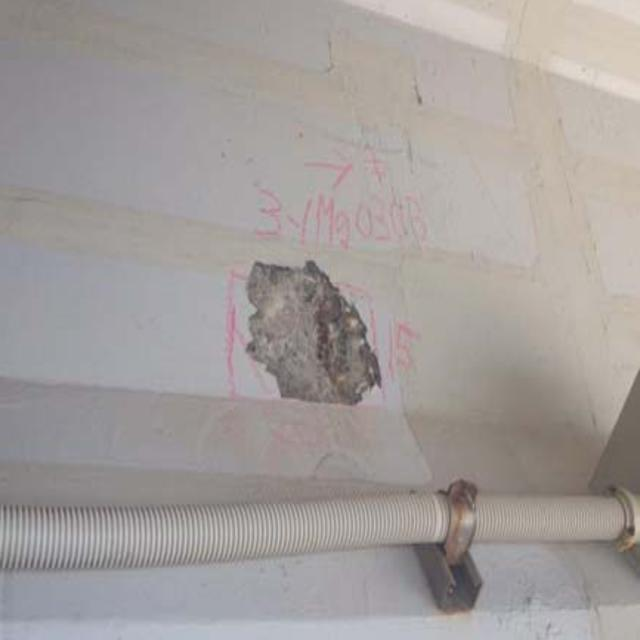spalling: (230, 233, 393, 407)
